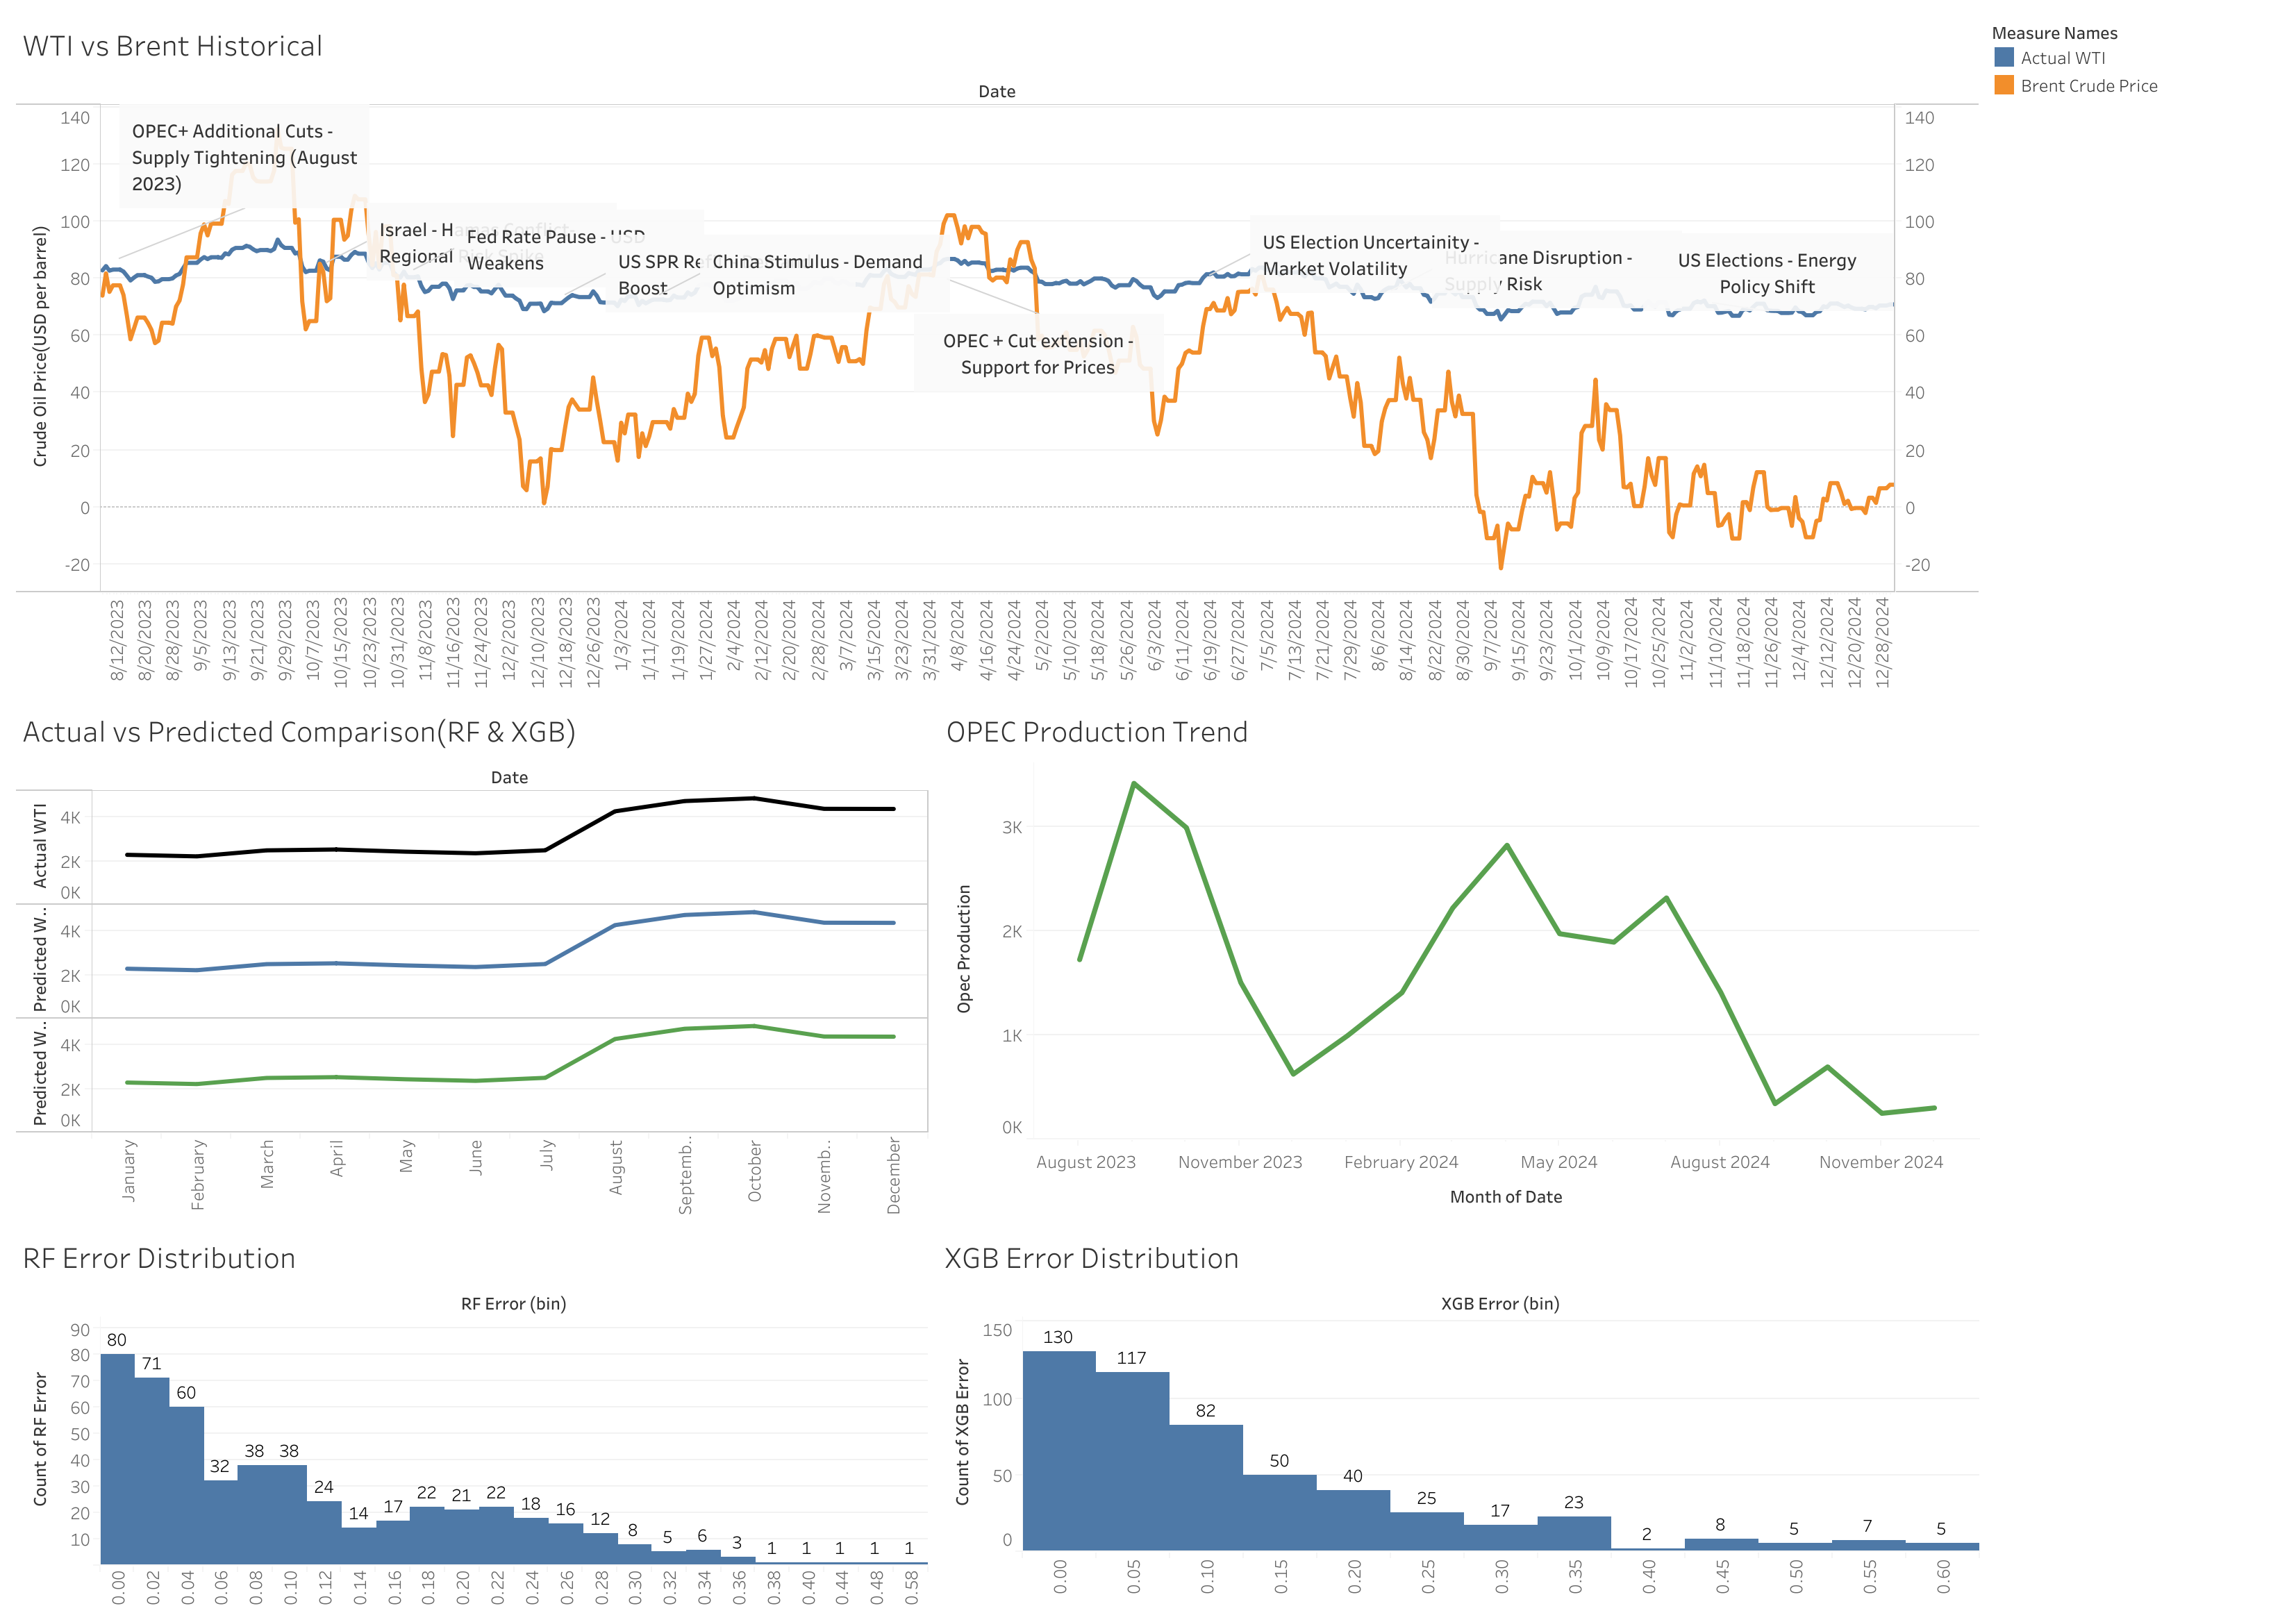

What the dashboard file says about the page in this screenshot:
{"tool":"tableau","page":{"name":"Dashboard 1","canvas":[1654,1169],"ordinal":0},"visuals":[{"type":"worksheet","title":"WTI vs Brent Historical","mark":"Automatic","rows":["Actual_WTI","brent_crude_price"],"cols":["Date"],"box":[8,8,1421,494.3]},{"type":"legend","title":"WTI vs Brent Historical","param":"[federated.0n7b8fv19ytlq91ctyp2o1s34aj9].[:Measure Names]","box":[1429,8,217,66]},{"type":"worksheet","title":"Actual vs Predicted Comparison(RF & XGB)","mark":"Automatic","rows":["Actual_WTI","Predicted_WTI_RF","Predicted_WTI_XGB"],"cols":["Date"],"box":[8,502.3,664.7,378.3]},{"type":"worksheet","title":"OPEC Production Trend","mark":"Line","rows":["opec_production"],"cols":["Date"],"box":[672.7,502.3,756.2,378.3]},{"type":"worksheet","title":"RF Error Distribution","mark":"Bar","rows":["RF_Error"],"cols":["RF Error (bin)"],"box":[8,880.6,664.2,280.4]},{"type":"worksheet","title":"XGB Error Distribution","mark":"Bar","rows":["XGB_Error"],"cols":["XGB Error (bin)"],"box":[672.3,880.6,756.7,280.4]}]}

Visuals, with their boxes in screenshot pixels (x1, y1, x2, y2), scaled from the page's 1654x1169 canvas onto the 2296x1622 screenshot:
"WTI vs Brent Historical" worksheet: (11,11,1983,697)
"WTI vs Brent Historical" legend: (1983,11,2285,103)
"Actual vs Predicted Comparison(RF & XGB)" worksheet: (11,697,934,1222)
"OPEC Production Trend" worksheet (Line marks): (934,697,1983,1222)
"RF Error Distribution" worksheet (Bar marks): (11,1222,933,1611)
"XGB Error Distribution" worksheet (Bar marks): (933,1222,1983,1611)
